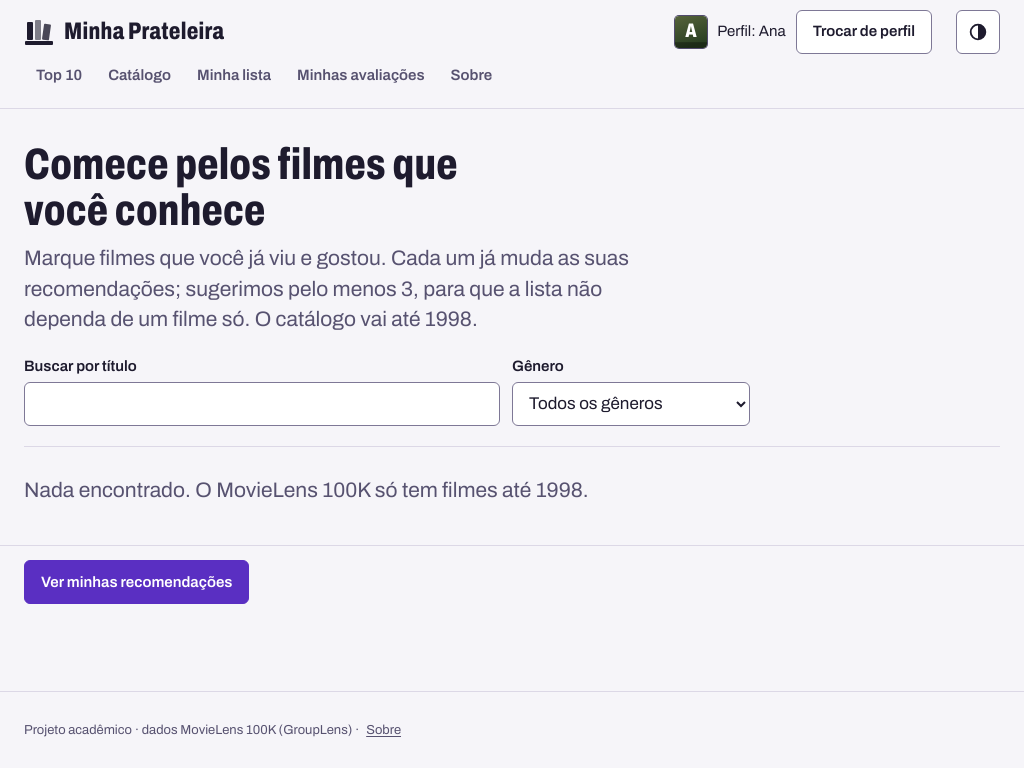
it: "Top 10" e o logo concluem os primeiros filmes › PATCH falha: continua no onboarding com a mensagem de erro
Expected: the text "Perfil: Ana" is shown, left=717, top=20, right=786, bottom=44
Click the link "Top 10" at (59,75), box left=36, top=67, right=82, bottom=83
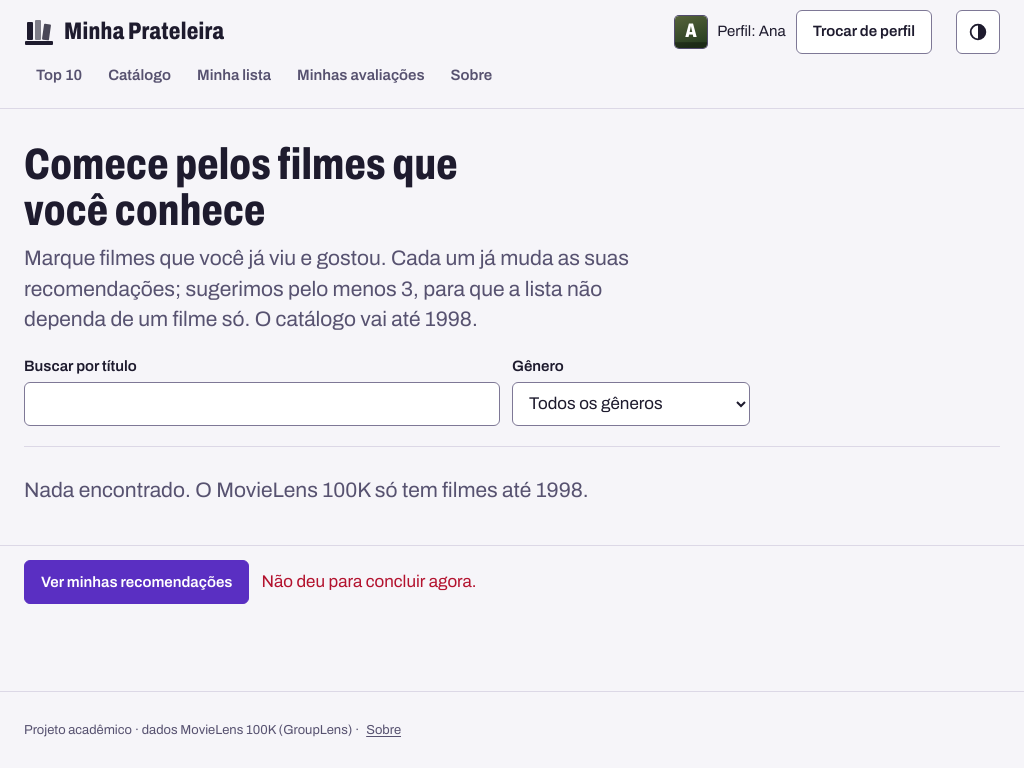
Expected: the text "Marque filmes que você já viu e gostou" is shown, left=24, top=247, right=629, bottom=330
Result: the message reads "Não deu para concluir agora." at left=261, top=572, right=476, bottom=591
